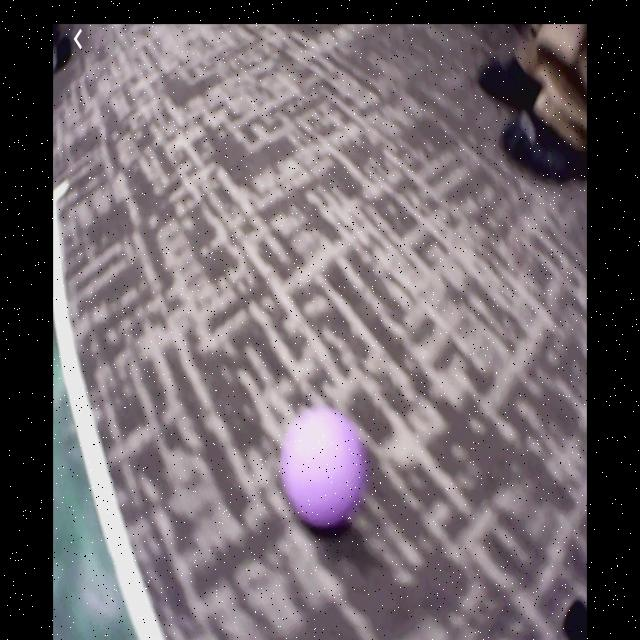ball: (286, 408, 363, 524)
